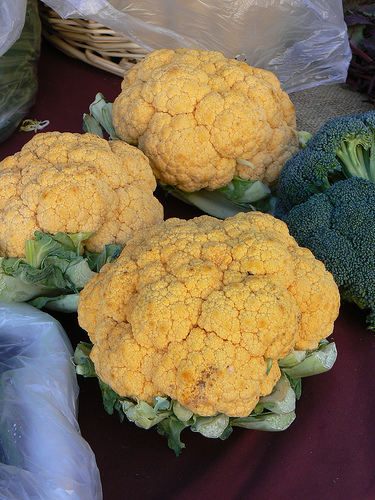cauliflower: (80, 210, 338, 437), (107, 45, 300, 193)
